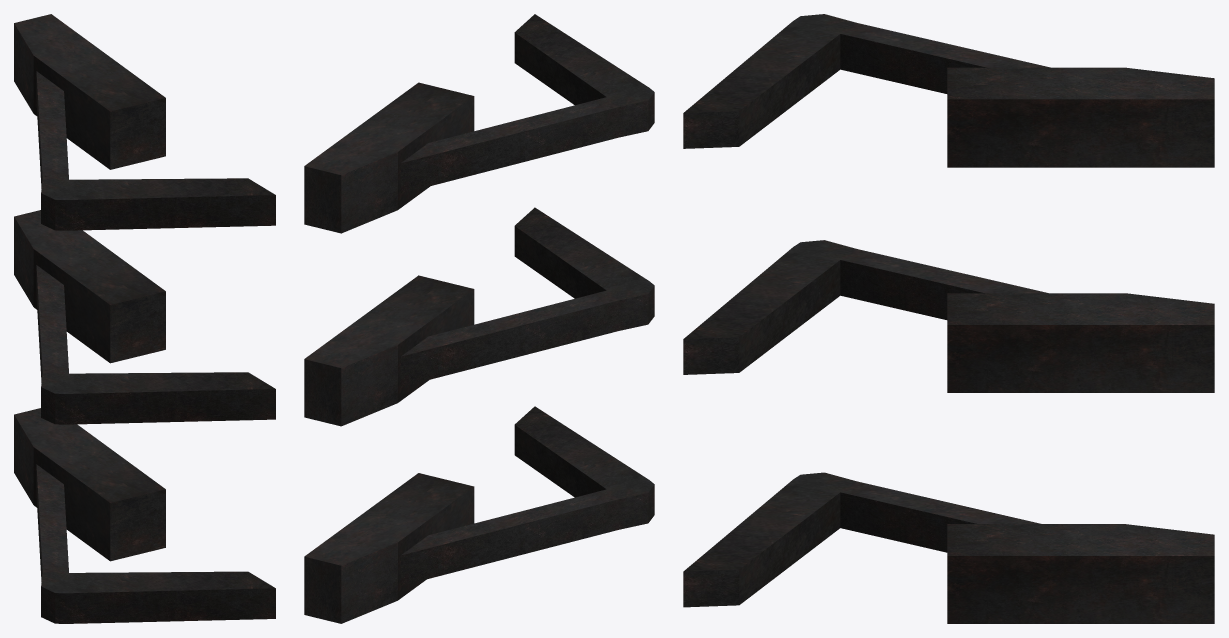
Rendered from DoorComponent.fbx.
The picture shows the model from 3 angles, left to right: view 1: azimuth 30°, elevation 25°; view 2: azimuth 150°, elevation 25°; view 3: azimuth 270°, elevation 25°; orthographic projection. The views are drawn at different scales.
Parts seen in each view (by area): view 1: Cube.007, Cube.005; view 2: Cube.007, Cube.005; view 3: Cube.005, Cube.007.
Boxes of the visible parts, <box> form: Cube.007: <box>36,71,275,623</box>; Cube.005: <box>14,14,165,561</box>; Cube.007: <box>400,14,654,585</box>; Cube.005: <box>304,82,474,623</box>; Cube.005: <box>947,67,1214,623</box>; Cube.007: <box>683,14,1050,607</box>.
Size of the model in its own units: 90.15 by 218 by 200.
Materials: 2 (2 with a texture image).
